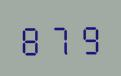eight: (18, 20, 45, 56)
nine: (75, 19, 102, 55)
seven: (47, 20, 74, 55)
